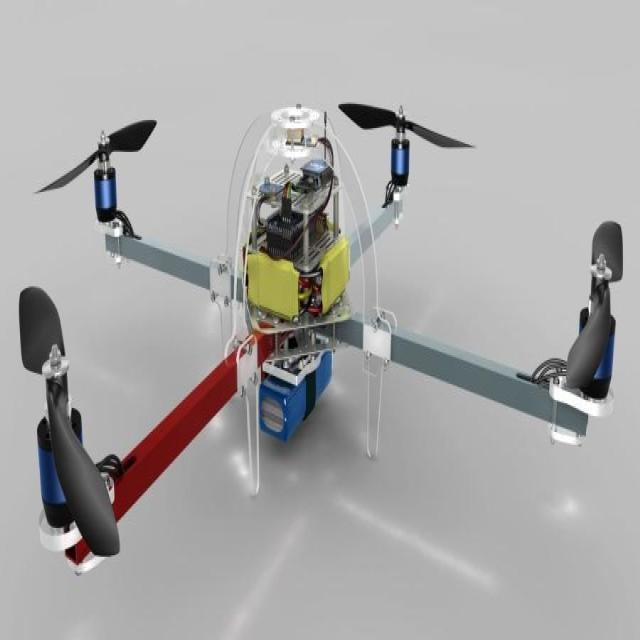drone: (10, 0, 640, 624)
